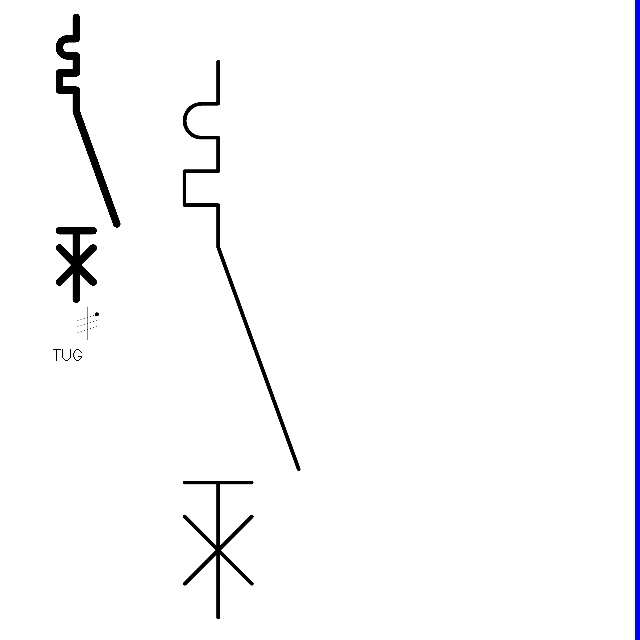interruptor_termomagnetico: (170, 47, 313, 632), (52, 10, 124, 306)
